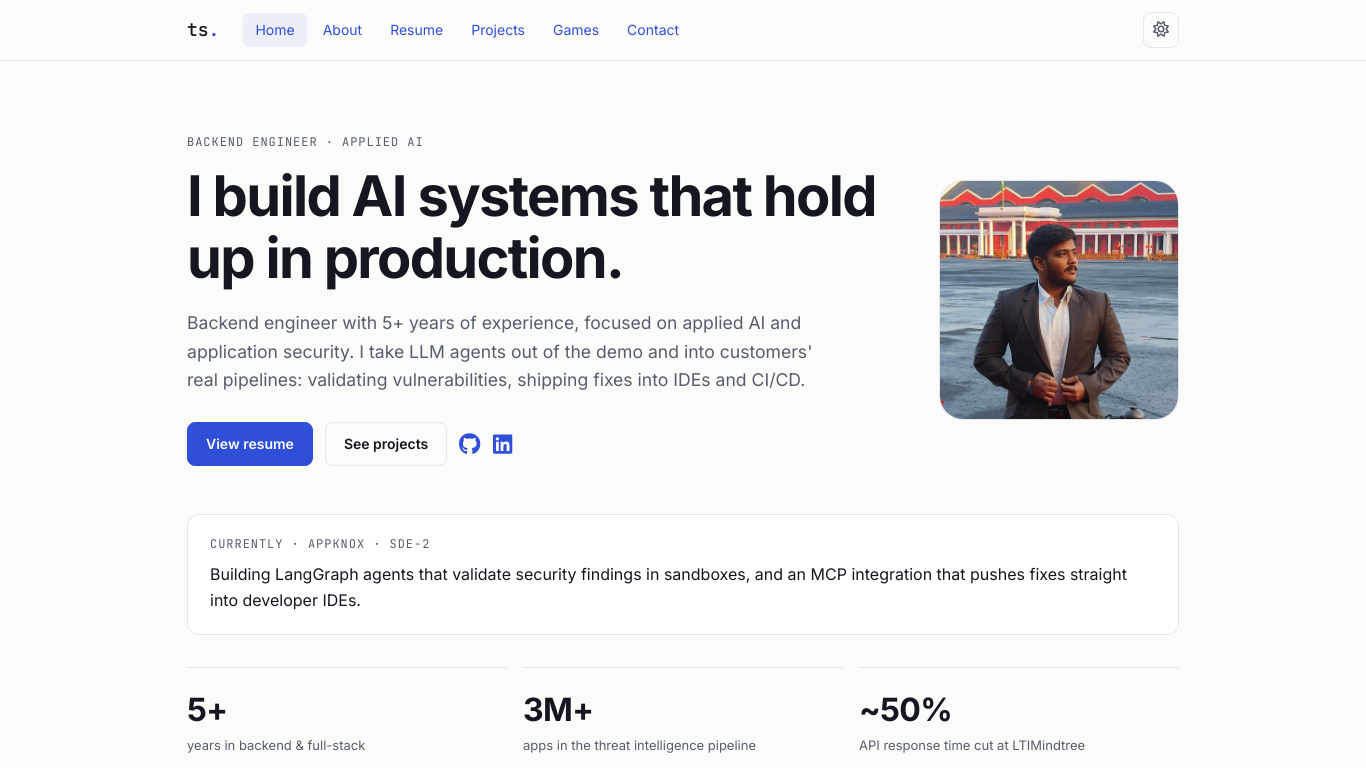
Test: copy button writes the email to the clipboard
Click the link "Contact". click: click(653, 29)
box: [627,21,679,38]
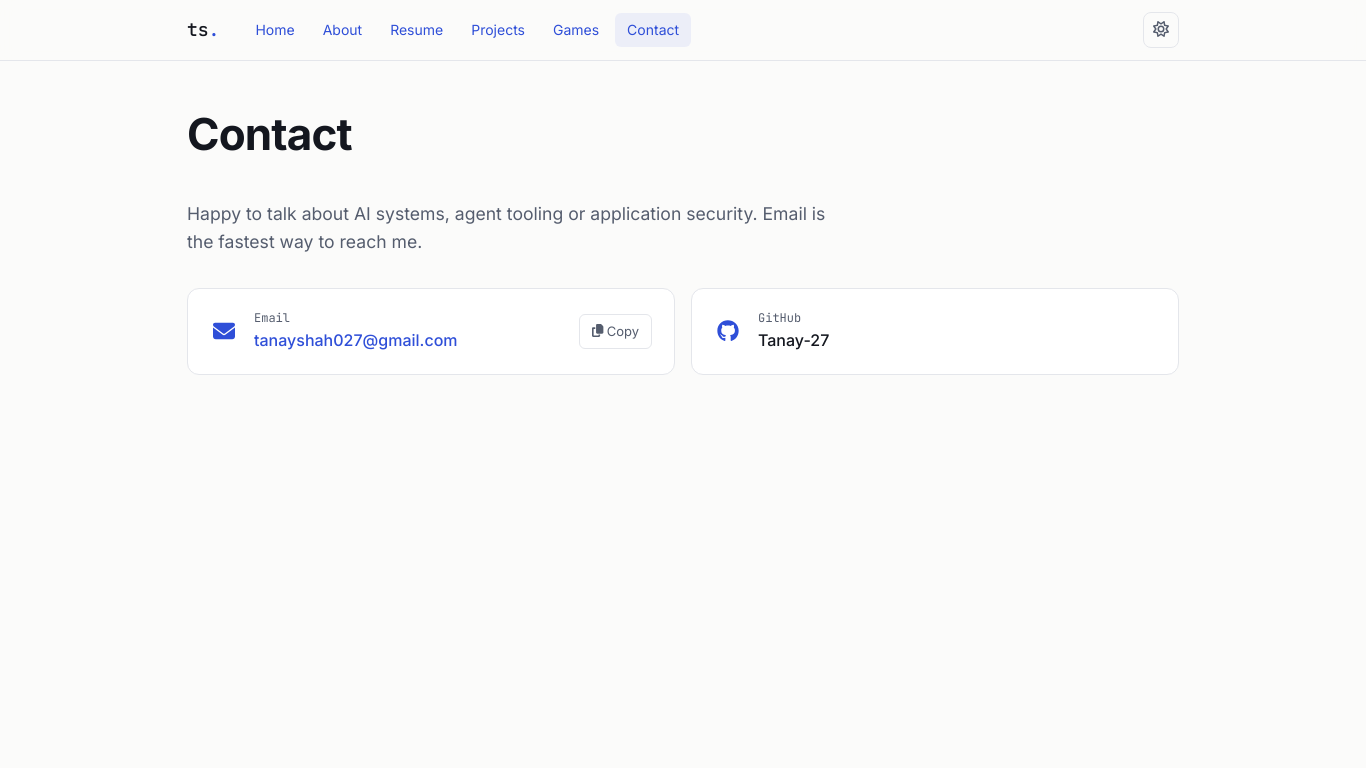
Click the button with aria-label "copy email". click: click(615, 331)
box: [579,314,652,349]
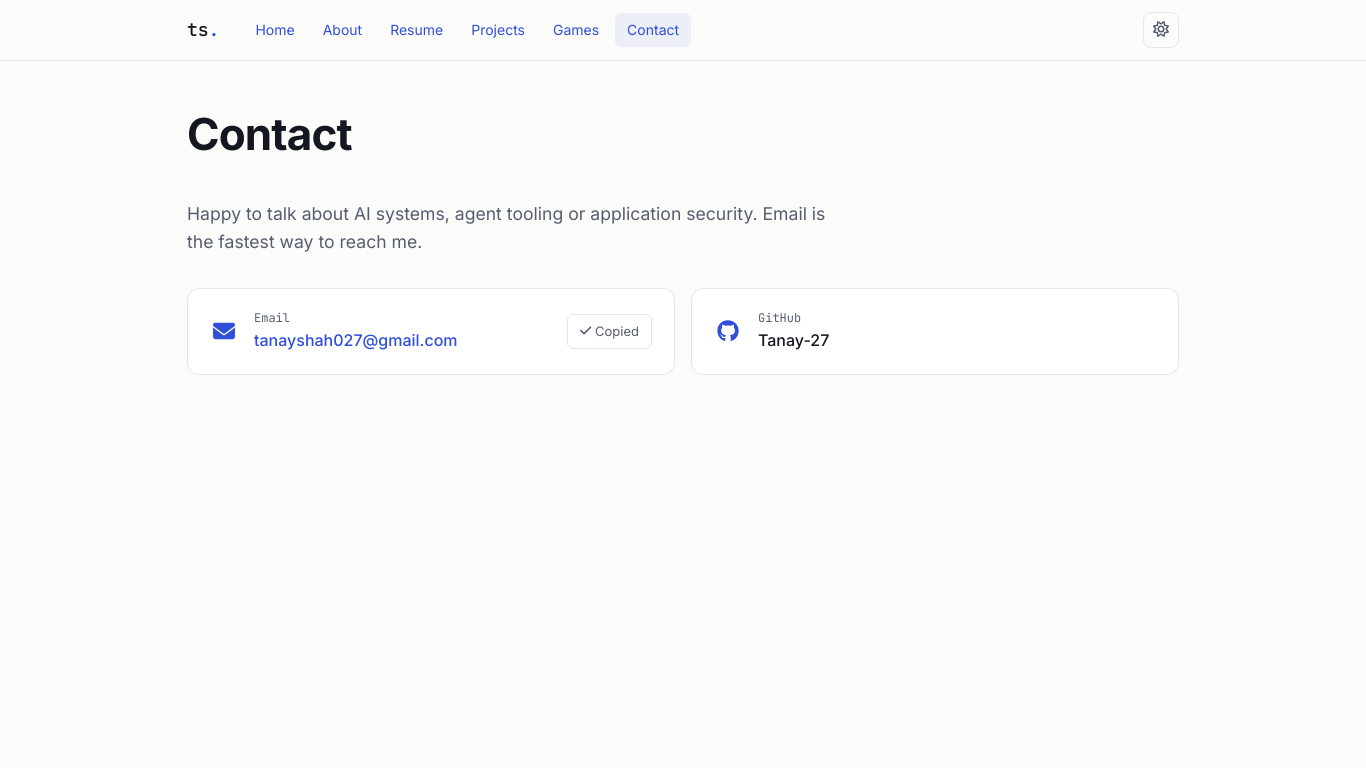
Now the button "Copied" is shown, box [567,314,652,349]
